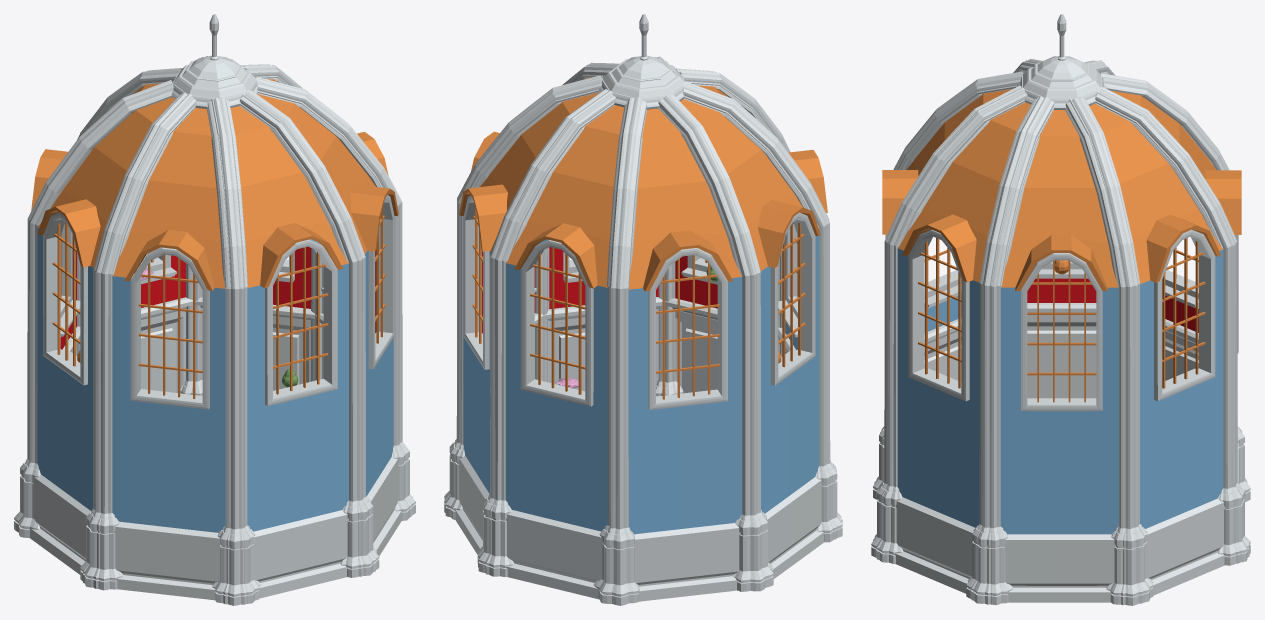
The model's file is smallest church.glb.
3 renders of one model, left to right at view 1: azimuth 30°, elevation 25°; view 2: azimuth 150°, elevation 25°; view 3: azimuth 270°, elevation 25°, orthographic.
Visible parts, largest first — view 1: walls, beams, door, wallpaper; view 2: walls, beams, wallpaper, door; view 3: walls, beams, door, wallpaper.
Boxes of the visible parts, <box> form: walls: <box>29,79,401,598</box>; beams: <box>14,14,415,605</box>; door: <box>112,247,225,600</box>; wallpaper: <box>60,235,376,349</box>; walls: <box>455,77,827,601</box>; beams: <box>444,14,842,605</box>; wallpaper: <box>482,247,717,333</box>; door: <box>778,224,797,353</box>; walls: <box>882,89,1241,602</box>; beams: <box>871,14,1250,605</box>; door: <box>924,239,961,381</box>; wallpaper: <box>1027,278,1198,332</box>.
Bounding box in the file's own units: 2.31 × 3.41 × 2.29.
